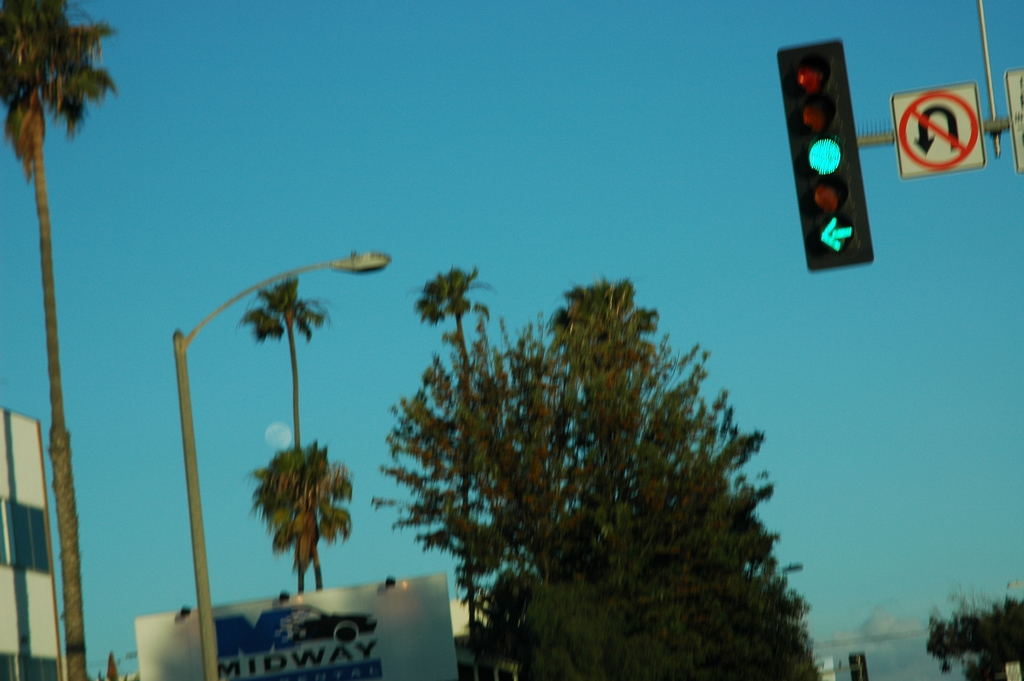green_light: (779, 47, 884, 273)
